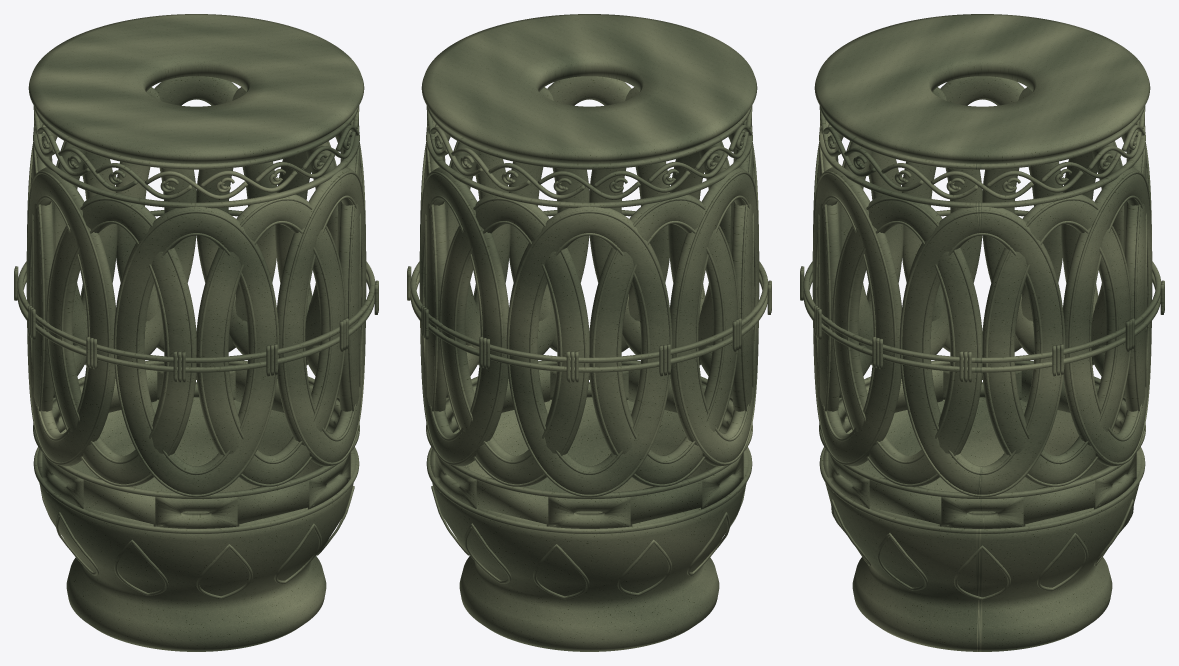
Rendered from celadon-stool-reconstruction.glb.
3 renders of one model, left to right at view 1: azimuth 30°, elevation 25°; view 2: azimuth 150°, elevation 25°; view 3: azimuth 270°, elevation 25°, orthographic.
Visible parts, largest first — view 1: Celadon pierced stool · photo-reference reconstruction; view 2: Celadon pierced stool · photo-reference reconstruction; view 3: Celadon pierced stool · photo-reference reconstruction.
Boxes of the visible parts, x1,y1,x2,y2 form: Celadon pierced stool · photo-reference reconstruction: [14, 14, 378, 651]; Celadon pierced stool · photo-reference reconstruction: [407, 14, 771, 651]; Celadon pierced stool · photo-reference reconstruction: [800, 14, 1164, 651].
Size of the model in its own units: 1.04 by 1.63 by 1.04.
Materials: 2 (2 with a texture image).
